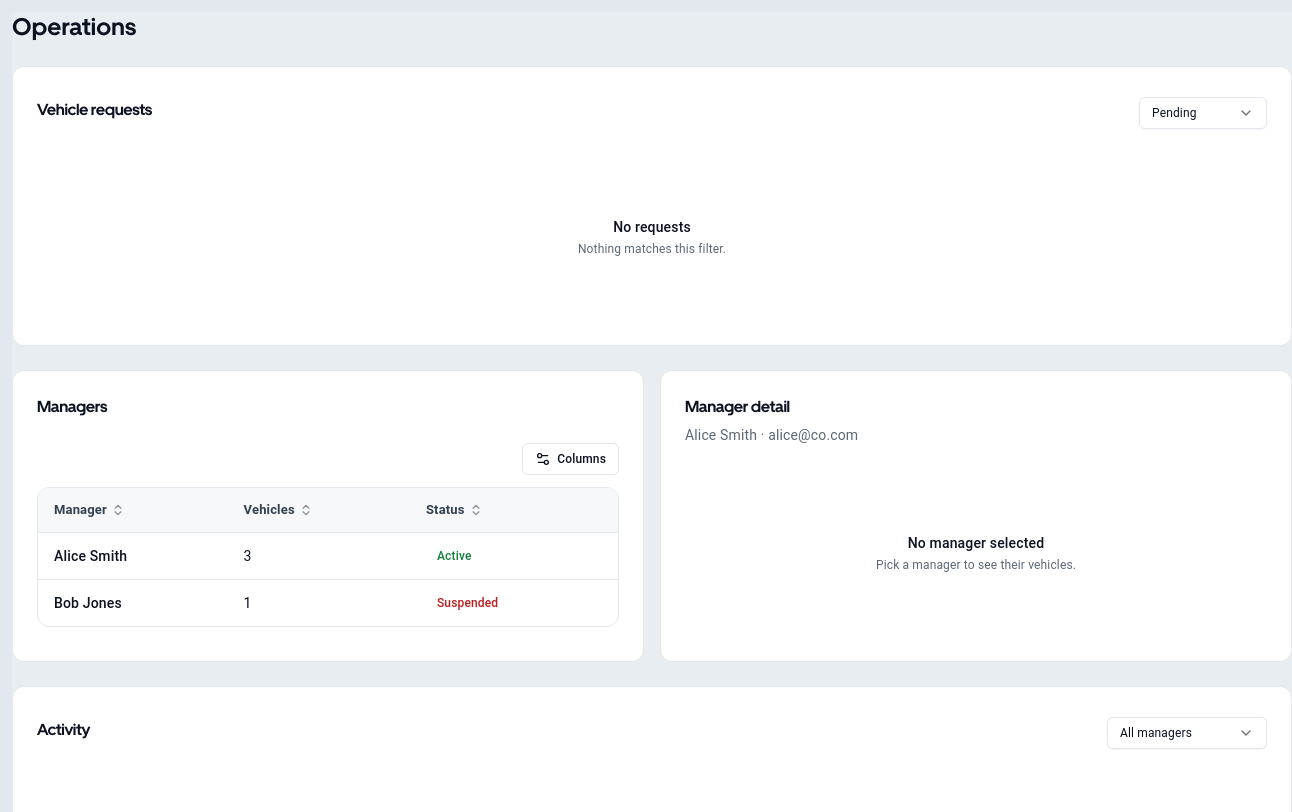
Test: OperationsPage › shows active/deactivated status badges for vehicles, not a live-connection label (issue #14)
Click the text "Alice Smith": (91, 556) [54, 548, 127, 564]
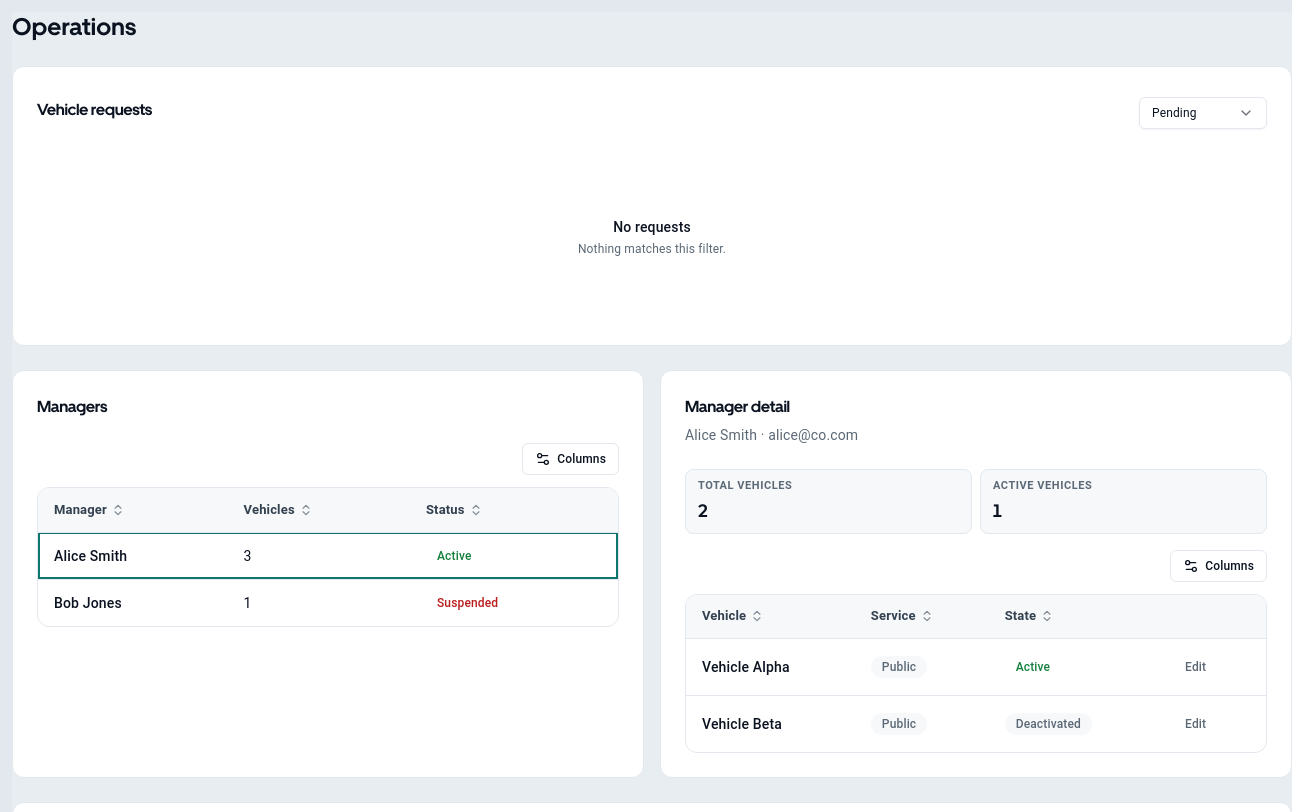
expect the text "Vehicle Beta" is shown: met, box [702, 716, 782, 732]
expect the text "Deactivated" is shown: met, box [1005, 713, 1092, 735]
